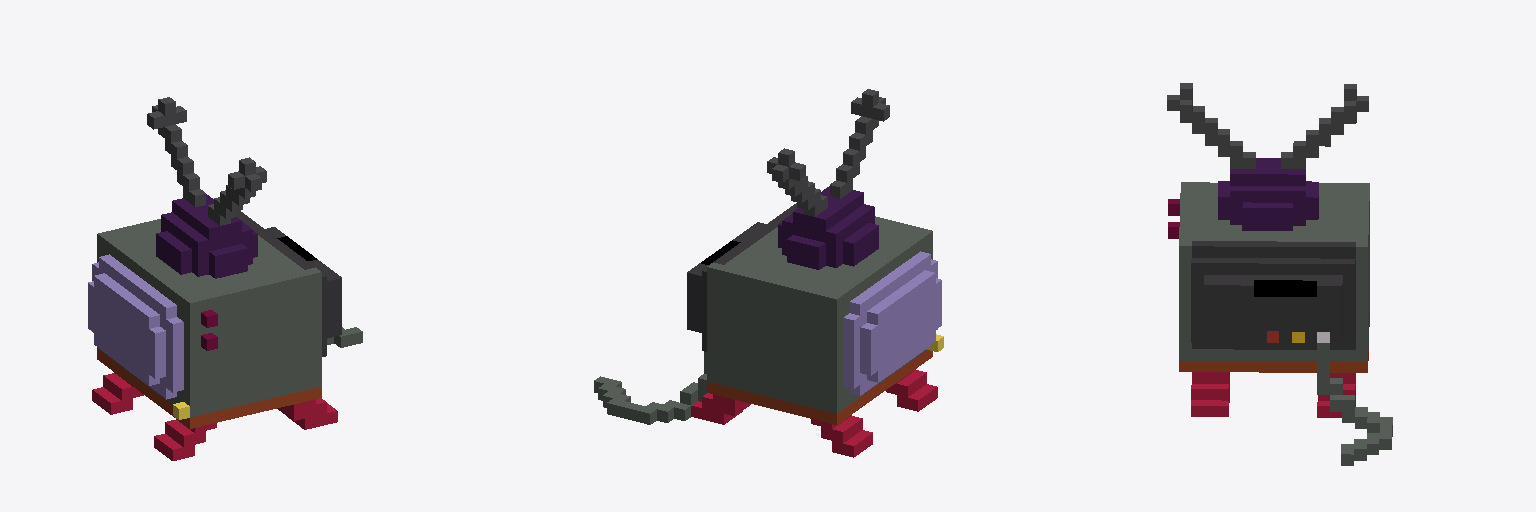
3 views of the same model, side by side, from view 1: azimuth 30°, elevation 25°; view 2: azimuth 150°, elevation 25°; view 3: azimuth 270°, elevation 25° (orthographic).
Visible parts, largest first — view 1: tv_voxel; view 2: tv_voxel; view 3: tv_voxel.
Boxes of the visible parts, x1,y1,x2,y2 form: tv_voxel: [88, 97, 362, 460]; tv_voxel: [594, 89, 943, 457]; tv_voxel: [1167, 83, 1392, 465].
Size of the model in its own units: 25.26 by 25.12 by 17.96.
1 materials, 1 textured.